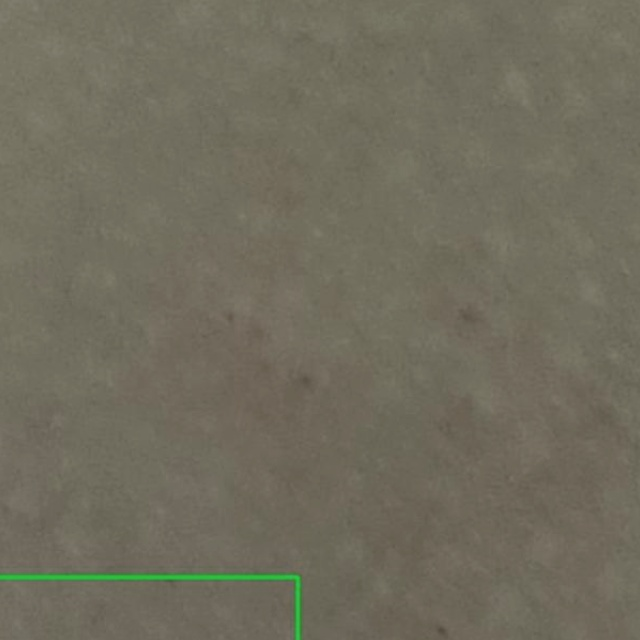Atopic Dermatitis: (0, 577, 297, 639)
